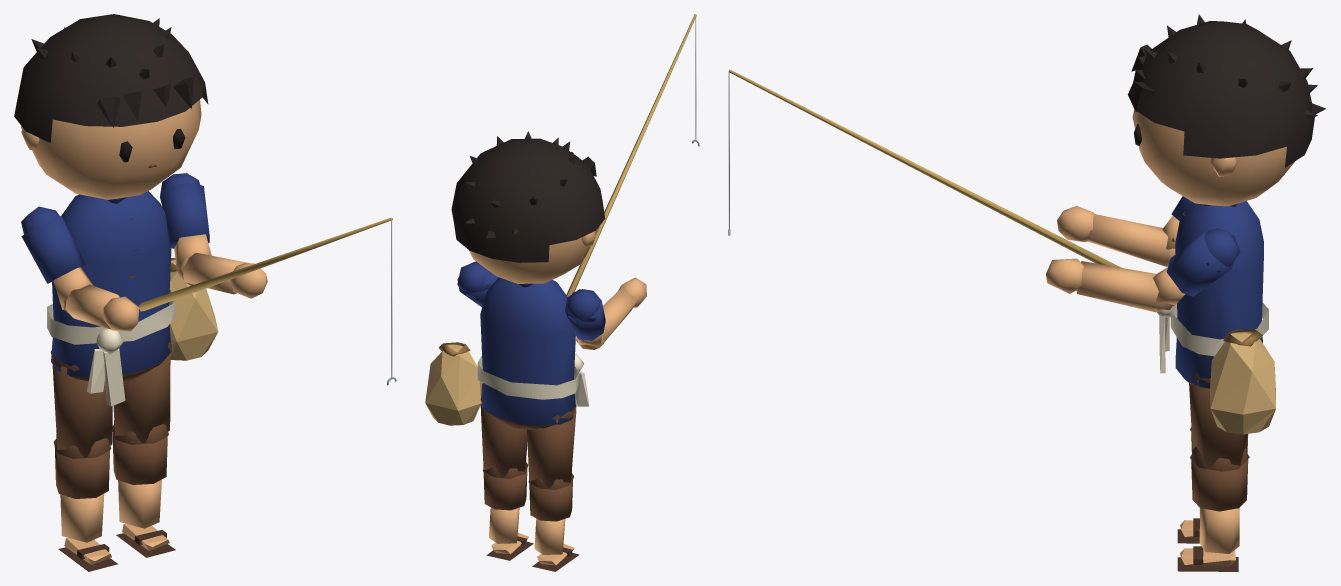
File: west_rod_fisher.glb
3 renders of one model, left to right at view 1: azimuth 30°, elevation 25°; view 2: azimuth 150°, elevation 25°; view 3: azimuth 270°, elevation 25°, orthographic. The views are drawn at different scales.
Parts seen in each view (by area): view 1: head, body, shin_R, shin_L, leg_R, arm_R, leg_L, arm_L, prop_creel, forearm_R, forearm_L, prop_fishing_rod; view 2: head, body, prop_creel, shin_R, shin_L, leg_R, leg_L, arm_R, prop_fishing_rod, forearm_R, arm_L; view 3: head, body, prop_creel, shin_L, arm_L, forearm_L, forearm_R, leg_L, prop_fishing_rod.
Part boxes in pixels (box(x1,y1,x2,y2)): head: box(14, 14, 208, 199); body: box(47, 191, 175, 406); shin_R: box(54, 434, 118, 571); shin_L: box(112, 420, 175, 557); leg_R: box(50, 351, 112, 458); arm_R: box(21, 206, 92, 319); leg_L: box(112, 342, 171, 444); arm_L: box(160, 173, 211, 285); prop_creel: box(169, 258, 218, 360); forearm_R: box(64, 284, 139, 331); forearm_L: box(180, 253, 267, 298); prop_fishing_rod: box(138, 217, 396, 385); head: box(451, 131, 605, 283); body: box(477, 277, 589, 430); prop_creel: box(425, 342, 481, 425); shin_R: box(529, 471, 579, 571); shin_L: box(483, 460, 533, 560); leg_R: box(527, 404, 576, 489); leg_L: box(480, 396, 528, 478); arm_R: box(565, 289, 605, 349); prop_fishing_rod: box(566, 14, 699, 296); forearm_R: box(577, 277, 646, 349); arm_L: box(457, 261, 498, 307); head: box(1128, 14, 1325, 206); body: box(1157, 201, 1268, 388); prop_creel: box(1210, 329, 1275, 434); shin_L: box(1177, 446, 1248, 571); arm_L: box(1153, 228, 1240, 310); forearm_L: box(1046, 258, 1174, 312); forearm_R: box(1057, 205, 1173, 266); leg_L: box(1189, 373, 1249, 471); prop_fishing_rod: box(728, 69, 1121, 267).
Bounding box in the file's own units: 0.6045 × 1.47 × 1.53.
